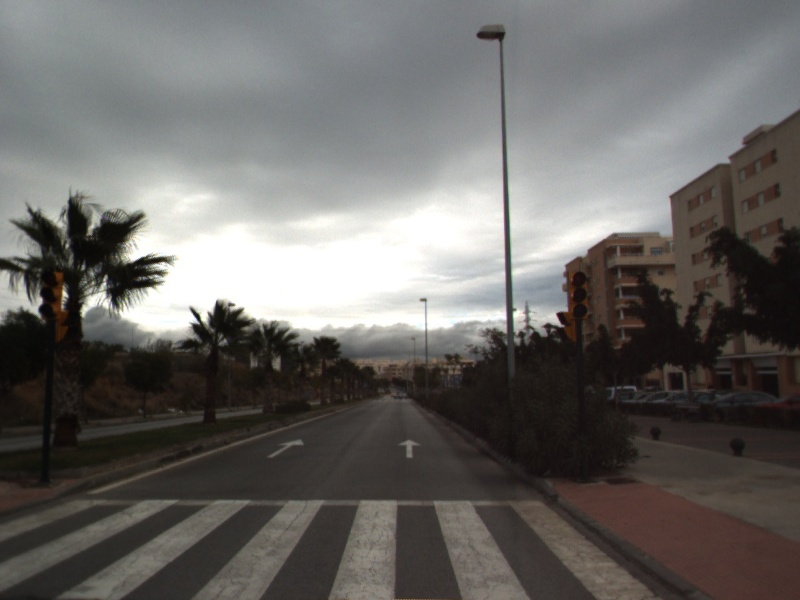STRAIGHT: (265, 437, 306, 460), (396, 437, 423, 459)
